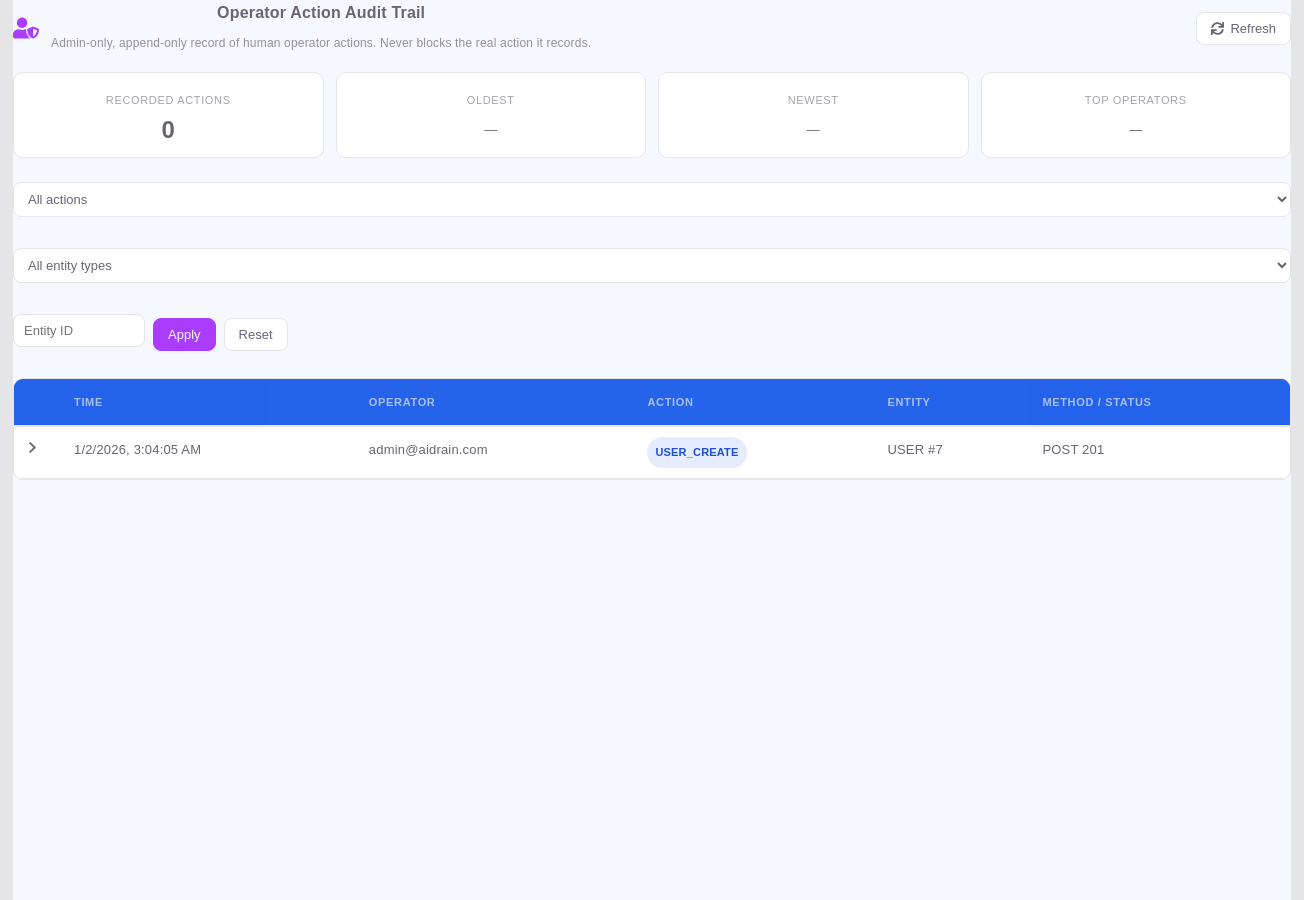
it: OperatorAuditPage › renders an audit row and expands it to show before/after
The width and height of the screenshot is (1304, 900).
Click the text "admin@aidrain.com" at [496, 452], box [357,426,635,478]
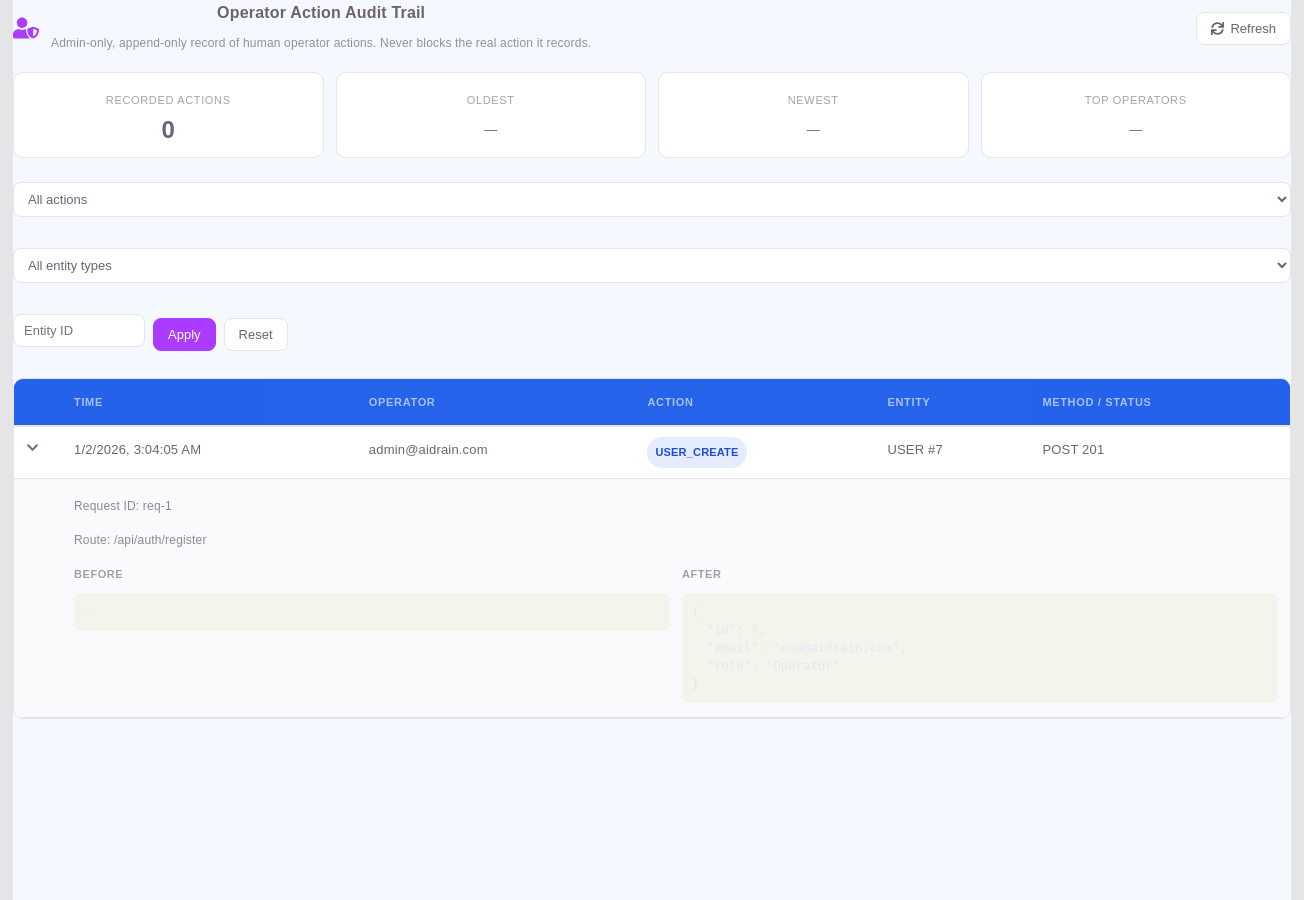
Check: the text "Before" is shown, box [74,568,123,580]
Check: the text "Request ID: req-1" is shown, box [74,499,172,513]
